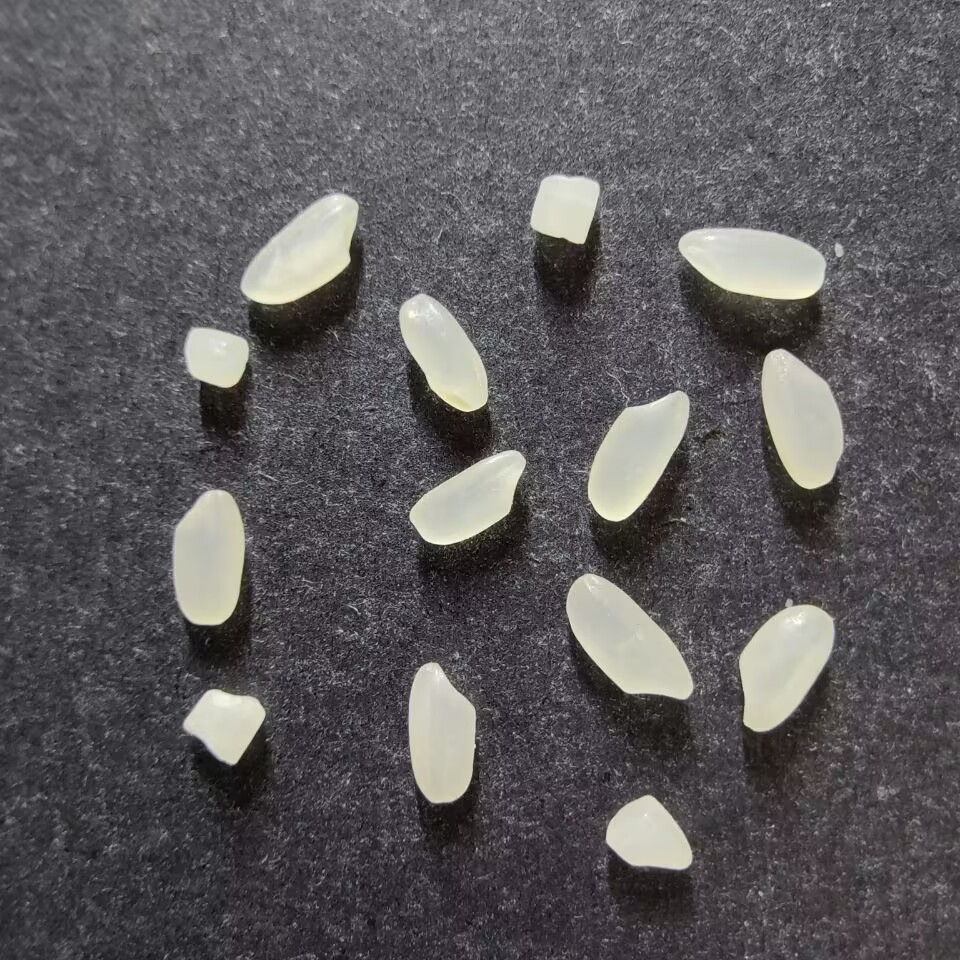broken: (604, 794, 693, 870), (182, 689, 265, 765), (529, 174, 600, 244), (182, 326, 249, 388)
rice: (565, 573, 695, 699), (586, 390, 690, 523), (239, 193, 358, 305), (736, 604, 835, 732), (760, 348, 843, 489), (408, 449, 525, 545), (398, 293, 489, 413), (677, 227, 825, 299), (407, 662, 477, 804), (172, 489, 244, 626)
